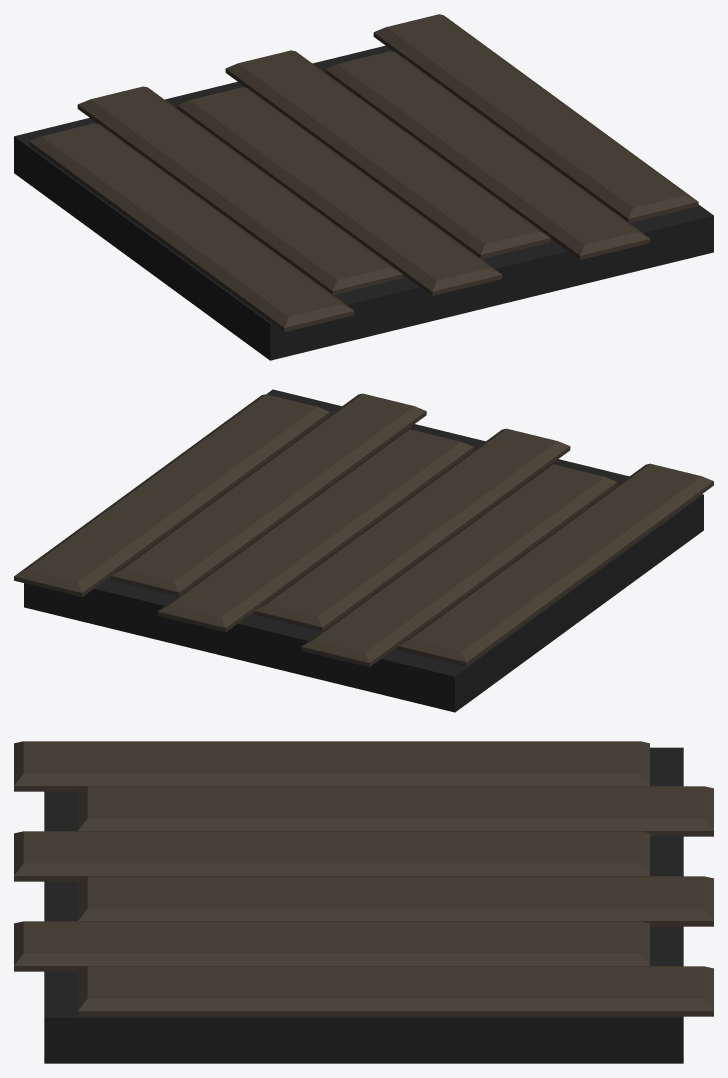
Rendered from Floor1.fbx.
3 views of the same model, one above another, from view 1: azimuth 30°, elevation 25°; view 2: azimuth 150°, elevation 25°; view 3: azimuth 270°, elevation 25° (orthographic). The views are drawn at different scales.
Parts seen in each view (by area): view 1: Floor1; view 2: Floor1; view 3: Floor1.
Boxes of the visible parts, <box> form: Floor1: <box>14,14,713,360</box>; Floor1: <box>14,389,713,712</box>; Floor1: <box>14,741,713,1063</box>.
Size of the model in its own units: 200 by 20.31 by 219.
